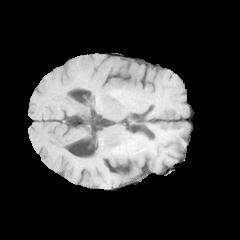glioma: (77, 132, 157, 167)
